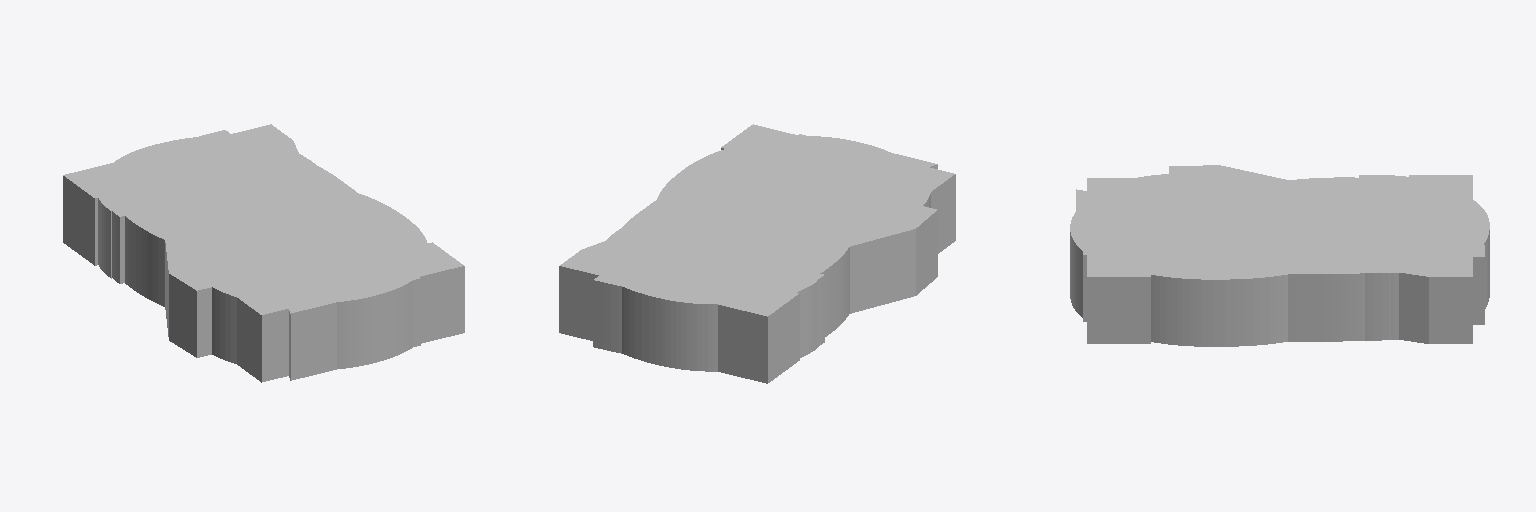
The model's file is Numbers.obj.
The picture shows the model from 3 angles: view 1: azimuth 30°, elevation 25°; view 2: azimuth 150°, elevation 25°; view 3: azimuth 270°, elevation 25°; orthographic projection.
Visible parts, largest first — view 1: 4_Text.005, 2_Text.007, 7_Text.002, 9_Text, 5_Text.004, 1_Text.008, 8_Text.001, 3_Text.006, 6_Text.003; view 2: 7_Text.002, 4_Text.005, 2_Text.007, 9_Text, 6_Text.003, 8_Text.001, 3_Text.006, 5_Text.004, 1_Text.008; view 3: 2_Text.007, 6_Text.003, 9_Text, 7_Text.002, 8_Text.001, 5_Text.004, 4_Text.005, 3_Text.006, 1_Text.008.
Boxes of the visible parts, box(x1,y1,x2,y2) form: 4_Text.005: box(156, 134, 420, 357); 2_Text.007: box(100, 136, 464, 382); 7_Text.002: box(63, 124, 359, 380); 9_Text: box(107, 140, 395, 307); 5_Text.004: box(94, 127, 428, 368); 1_Text.008: box(121, 136, 397, 296); 8_Text.001: box(109, 138, 429, 300); 3_Text.006: box(96, 140, 422, 363); 6_Text.003: box(135, 130, 428, 298); 7_Text.002: box(559, 147, 937, 383); 4_Text.005: box(601, 134, 937, 313); 2_Text.007: box(597, 124, 955, 371); 9_Text: box(607, 149, 911, 336); 6_Text.003: box(593, 138, 904, 353); 8_Text.001: box(599, 137, 917, 300); 3_Text.006: box(604, 139, 930, 357); 5_Text.004: box(598, 136, 920, 282); 1_Text.008: box(613, 136, 867, 285); 2_Text.007: box(1087, 175, 1489, 343); 6_Text.003: box(1080, 180, 1484, 346); 9_Text: box(1079, 177, 1484, 341); 7_Text.002: box(1076, 175, 1472, 343); 8_Text.001: box(1075, 179, 1483, 340); 5_Text.004: box(1070, 179, 1472, 317); 4_Text.005: box(1083, 165, 1480, 321); 3_Text.006: box(1075, 173, 1482, 272); 1_Text.008: box(1082, 185, 1465, 249).
Size of the model in its own units: 0.3656 by 0.1 by 0.5653.